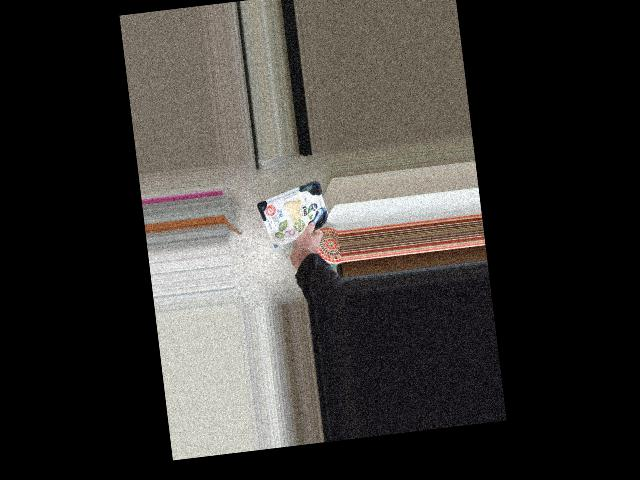cheese: (258, 179, 331, 248)
